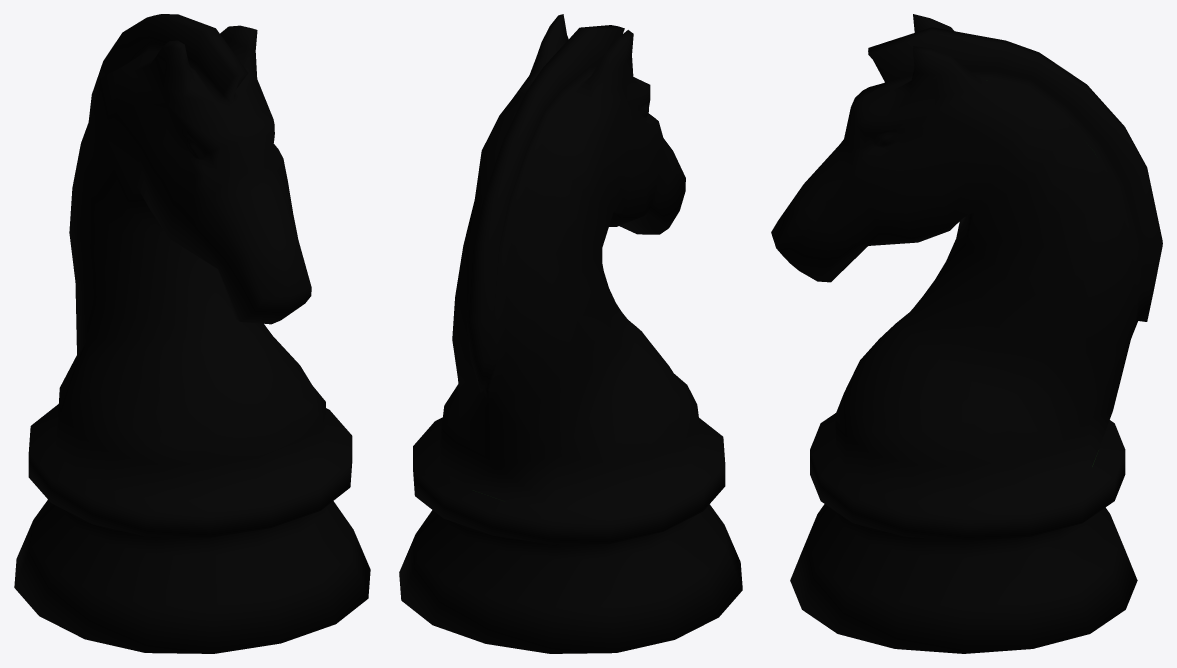
File: Cavalo.fbx
The picture shows the model from 3 angles, left to right: view 1: azimuth 30°, elevation 25°; view 2: azimuth 150°, elevation 25°; view 3: azimuth 270°, elevation 25°; orthographic projection. The views are drawn at different scales.
Parts seen in each view (by area): view 1: Cube; view 2: Cube; view 3: Cube.
Part boxes in pixels (bbox=[...]): Cube: bbox=[14, 14, 370, 653]; Cube: bbox=[399, 14, 742, 653]; Cube: bbox=[771, 14, 1162, 653].
Size of the model in its own units: 132 by 231 by 149.
